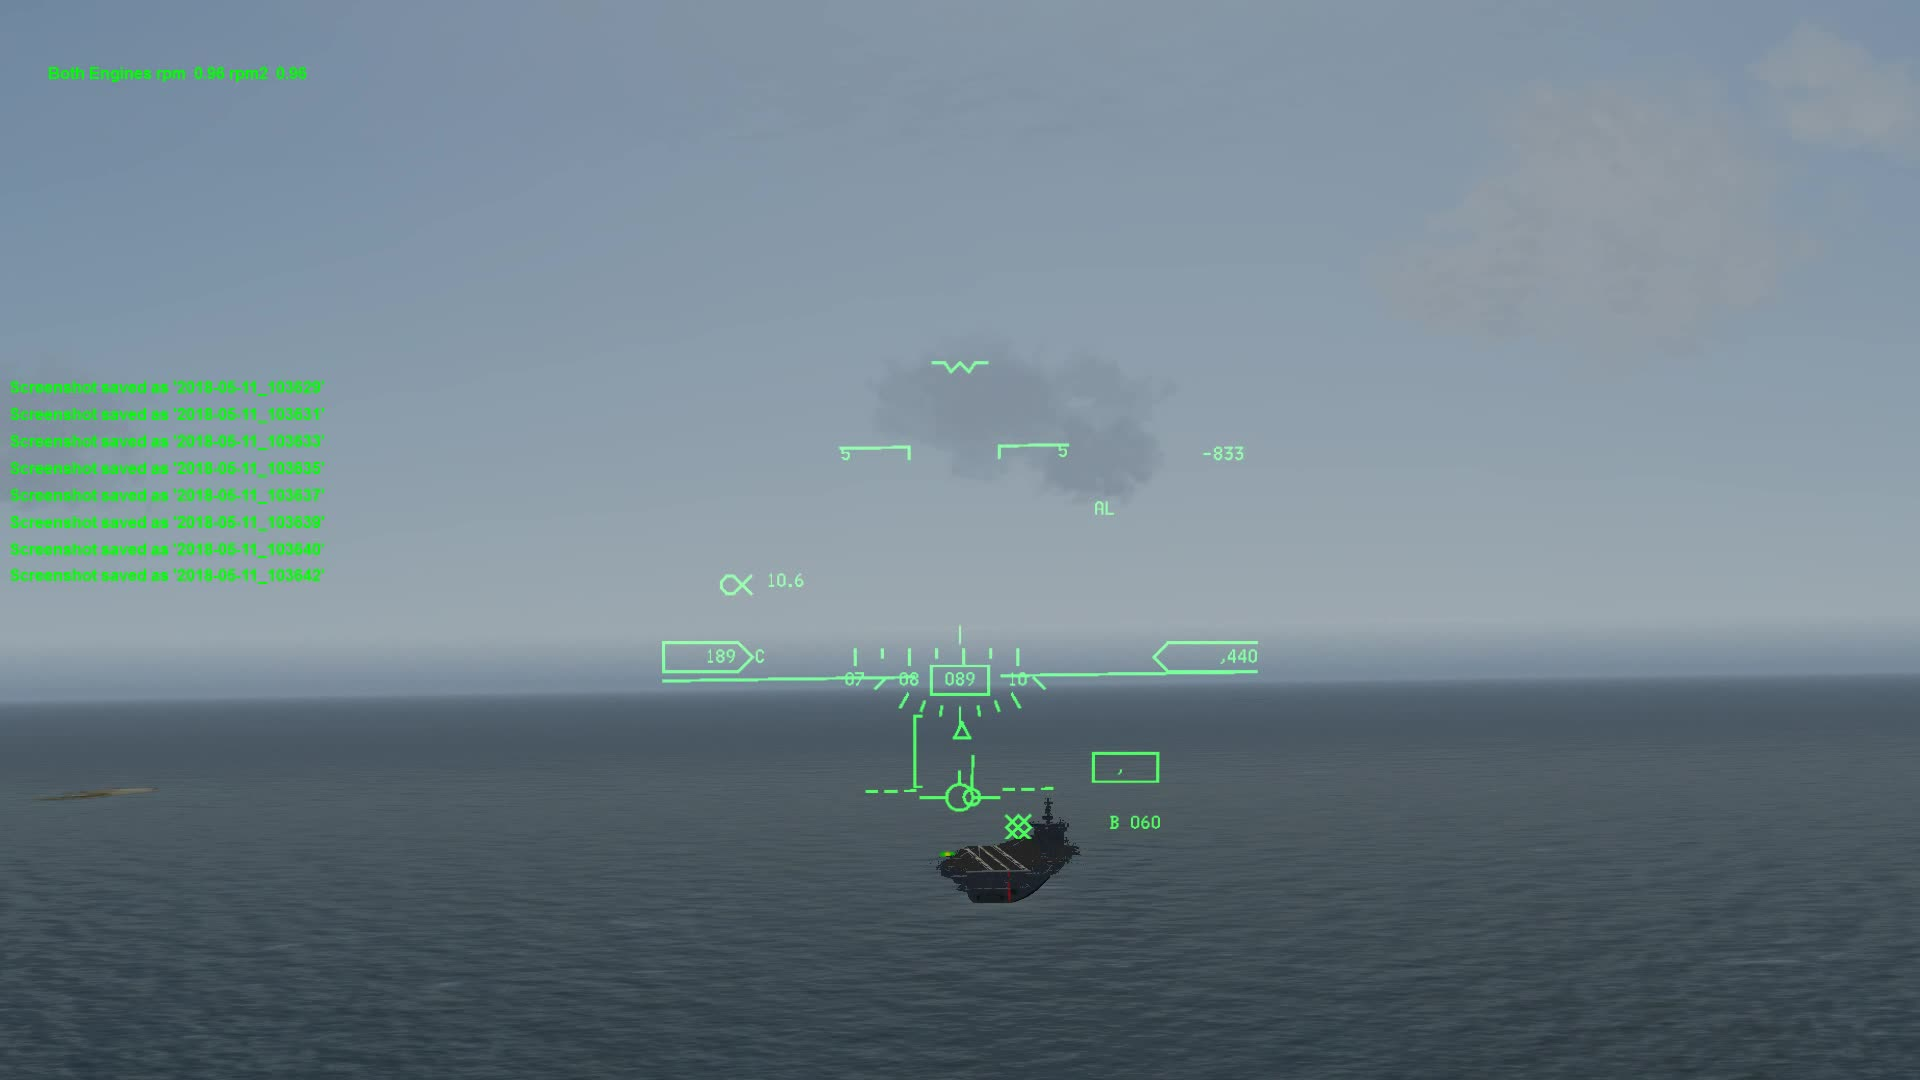speed vector: (932, 767, 1010, 814)
